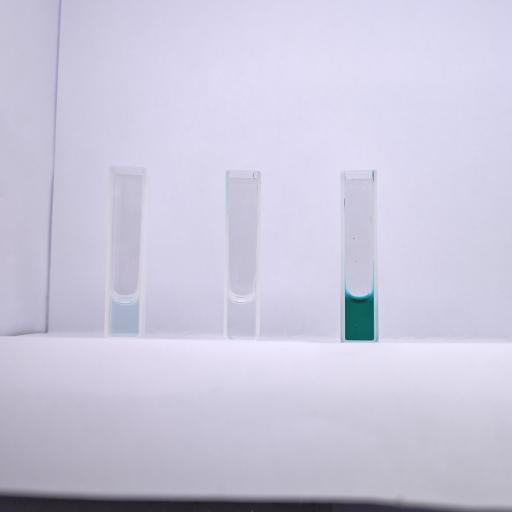cuvette: (103, 162, 149, 340), (339, 167, 381, 344), (223, 168, 263, 340)
liquid: (346, 293, 374, 340), (109, 294, 139, 334), (228, 294, 256, 336)
